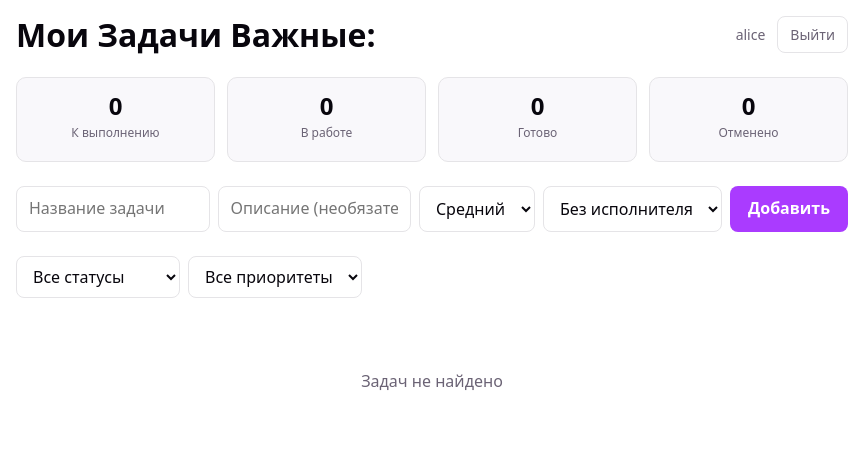
Scenario: Tasks page › creates a task and reloads the list
Check: the text "Задач не найдено" is shown, box x1=361 y1=370 x2=503 y2=392
Type "Новая задача" into the field with placeholder "Название задачи" at (113, 209), box x1=16 y1=186 x2=210 y2=232
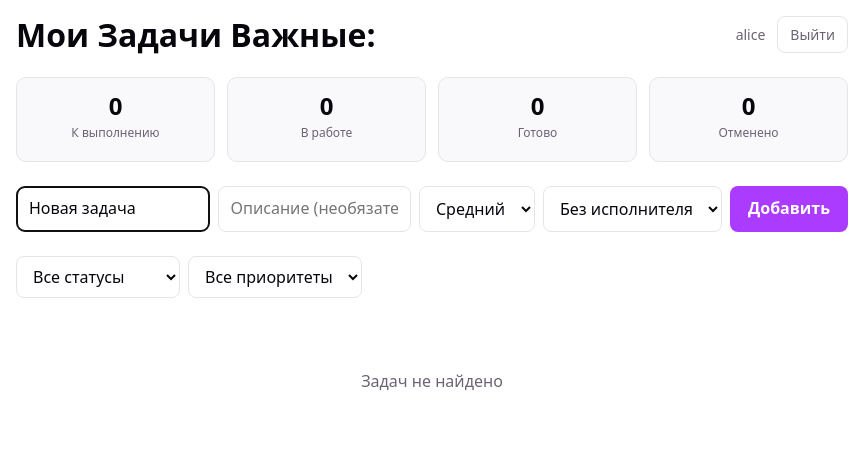
Click the button "Добавить" at (789, 209), box x1=730 y1=186 x2=848 y2=232
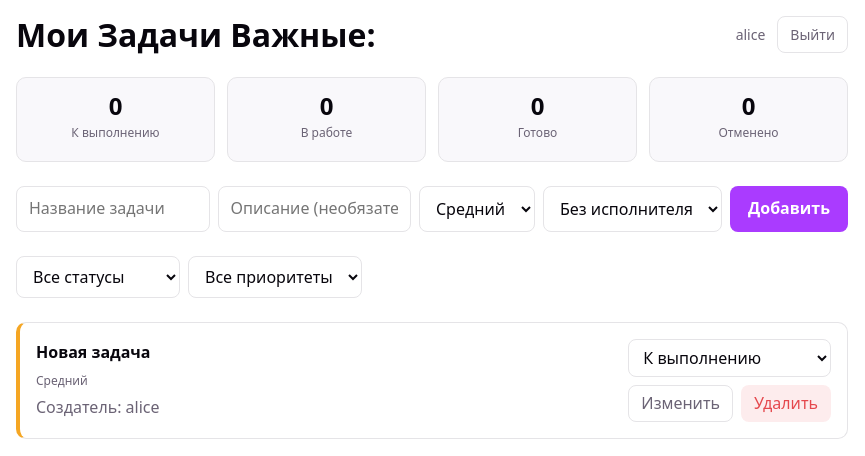
Check: the heading "Новая задача" is shown, box x1=36 y1=341 x2=160 y2=365
